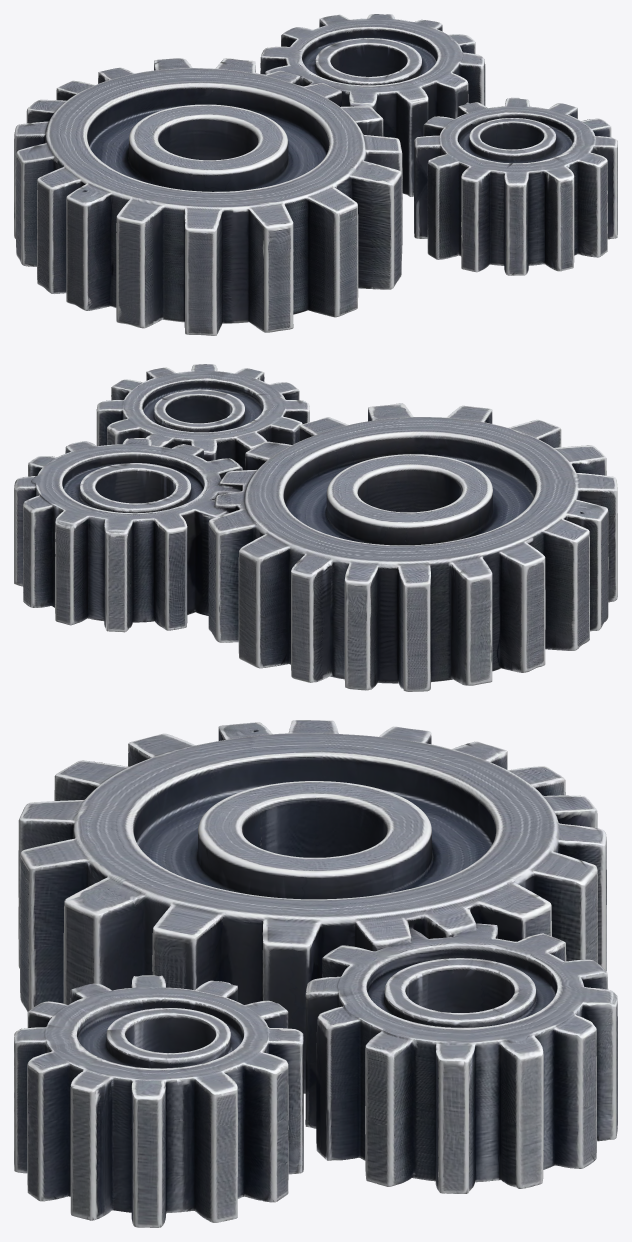
File: metallic-gears.optimized.glb
The picture shows the model from 3 angles, top to bottom: view 1: azimuth 30°, elevation 25°; view 2: azimuth 150°, elevation 25°; view 3: azimuth 270°, elevation 25°; orthographic projection. The views are drawn at different scales.
Size of the model in its own units: 1.9 by 0.4169 by 1.38.
Materials: 1 (1 with a texture image).
